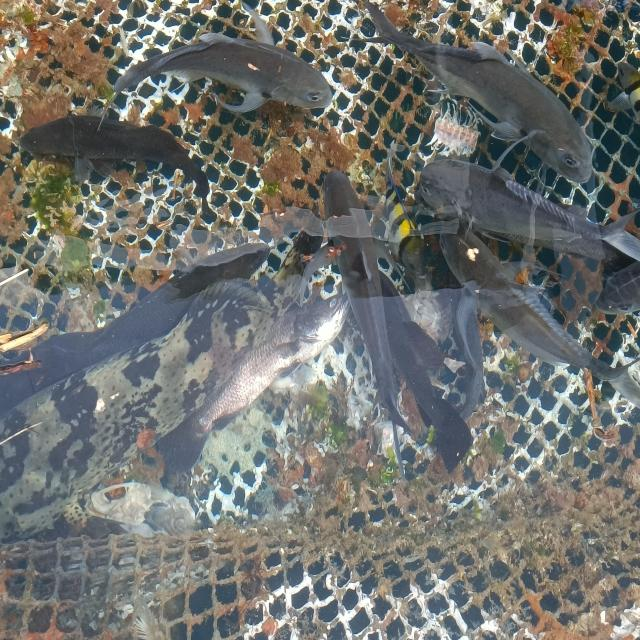ikan: (298, 167, 473, 478), (360, 0, 595, 186), (434, 224, 638, 428), (413, 155, 639, 265), (110, 10, 334, 116), (18, 111, 210, 201)
